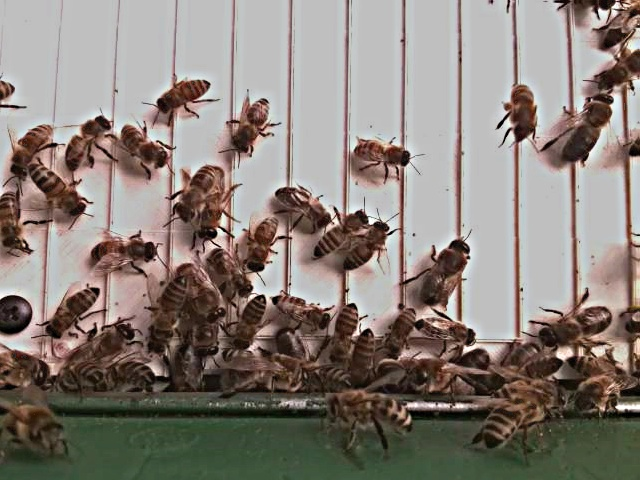Drone: (562, 89, 617, 165), (419, 235, 474, 307), (535, 301, 618, 347), (195, 160, 231, 243)
Worker: (25, 161, 86, 217), (46, 283, 104, 337), (62, 113, 114, 170), (230, 92, 275, 156), (313, 209, 370, 259), (118, 120, 173, 171), (343, 215, 391, 273), (272, 288, 333, 332), (154, 73, 216, 116), (10, 119, 55, 177), (274, 183, 335, 224), (414, 311, 482, 347), (154, 273, 190, 341), (231, 291, 270, 353), (207, 246, 254, 297), (91, 234, 158, 268), (326, 300, 362, 363), (354, 134, 415, 171), (243, 215, 283, 271), (381, 304, 421, 359), (507, 79, 539, 144), (0, 188, 29, 251)
